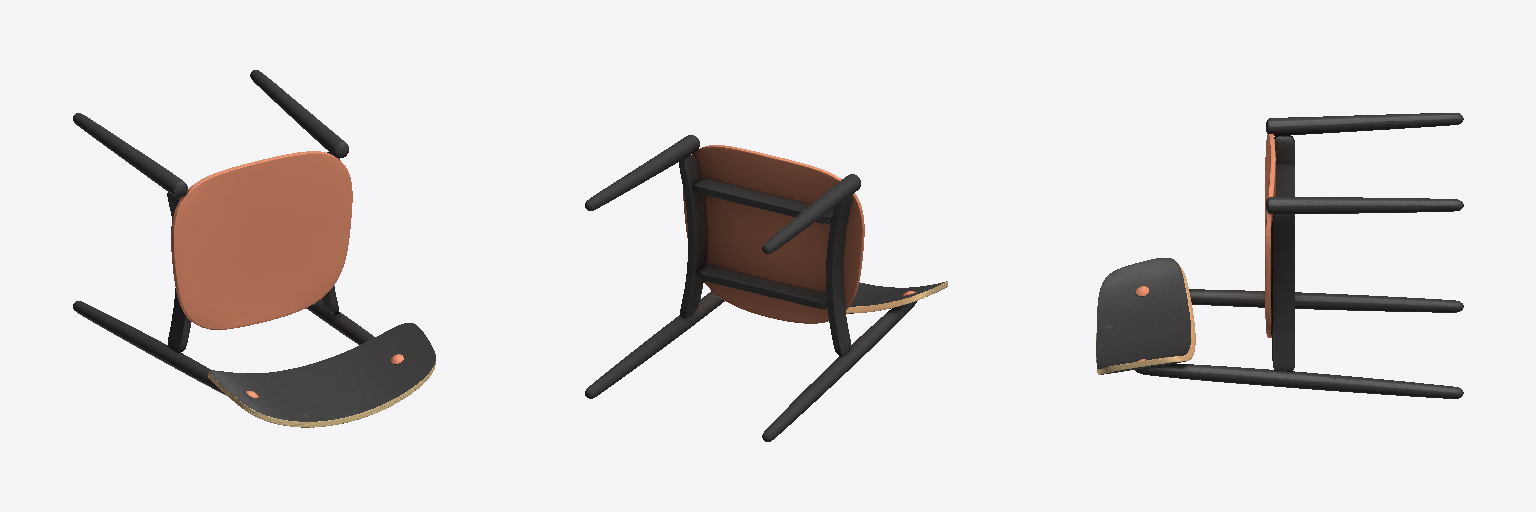
3 renders of one model, left to right at view 1: azimuth 30°, elevation 25°; view 2: azimuth 150°, elevation 25°; view 3: azimuth 270°, elevation 25°, orthographic.
Size of the model in its own units: 0.586 by 0.5411 by 0.9046.
Materials: 1 (1 with a texture image).